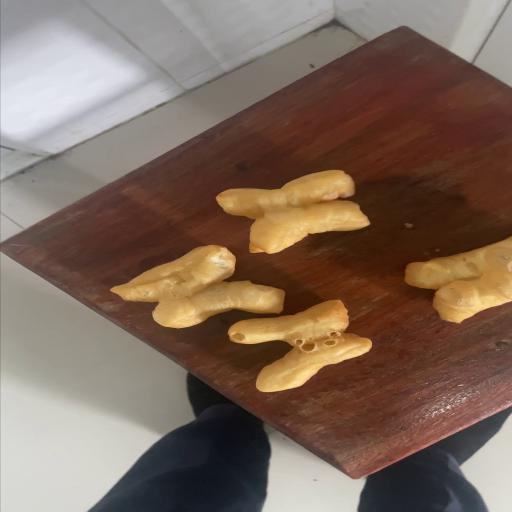street_golden_defect: (110, 245, 285, 328), (228, 300, 372, 391), (0, 268, 490, 284)
street_golden_good: (216, 170, 369, 254), (405, 238, 512, 323)
